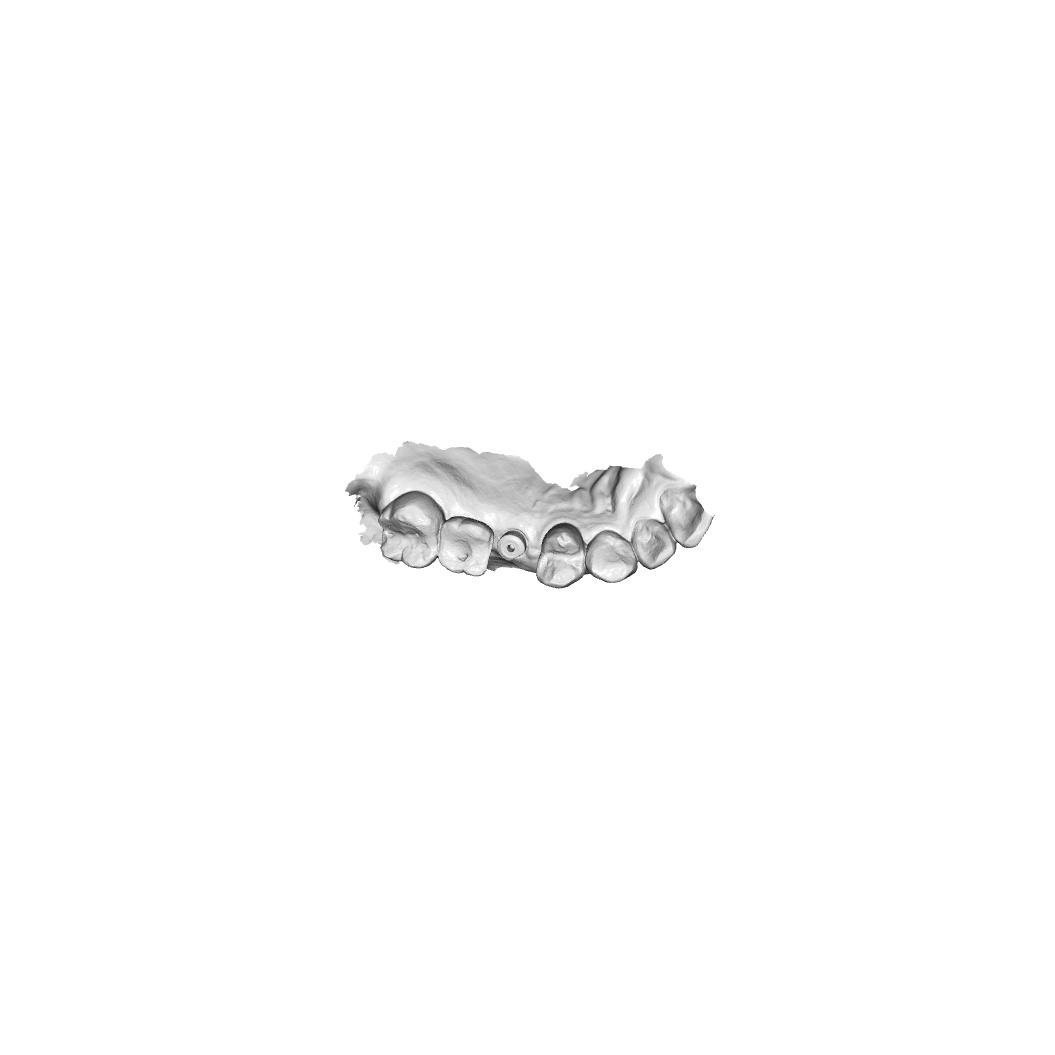canine: (585, 529, 638, 584)
implant: (496, 529, 528, 563)
incisor: (658, 485, 715, 549), (632, 517, 678, 570)
molar: (377, 489, 447, 570), (436, 515, 495, 578)
premolar: (535, 521, 587, 590)
